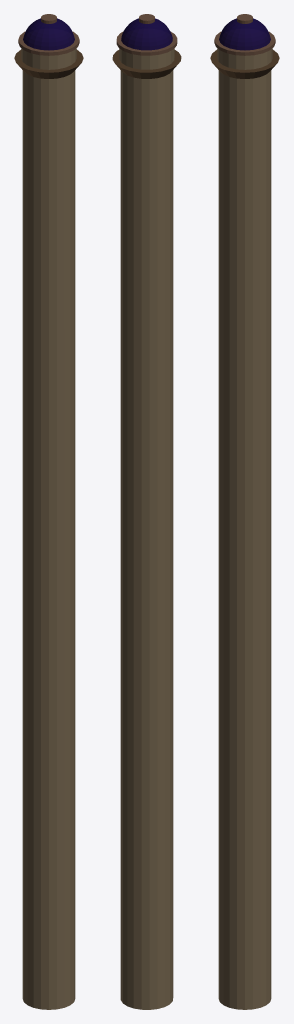
File: PoleBuilding.fbx
The picture shows the model from 3 angles, left to right: view 1: azimuth 90°, elevation 25°; view 2: azimuth 150°, elevation 25°; view 3: azimuth 270°, elevation 25°; orthographic projection.
Parts seen in each view (by area): view 1: Icecream; view 2: Icecream; view 3: Icecream.
Part boxes in pixels (bbox=[...]): Icecream: bbox=[14, 14, 83, 1009]; Icecream: bbox=[112, 14, 181, 1009]; Icecream: bbox=[210, 14, 279, 1009].
Size of the model in its own units: 5.71 by 89.06 by 5.71.
